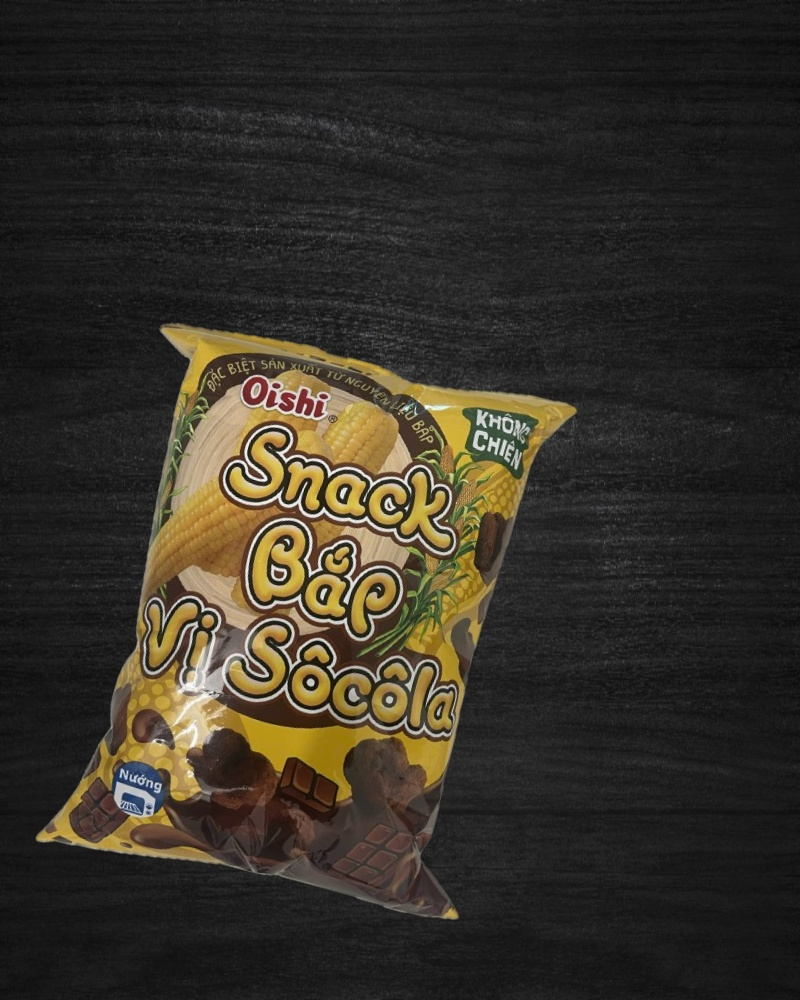Snack socola: (28, 301, 594, 941)
